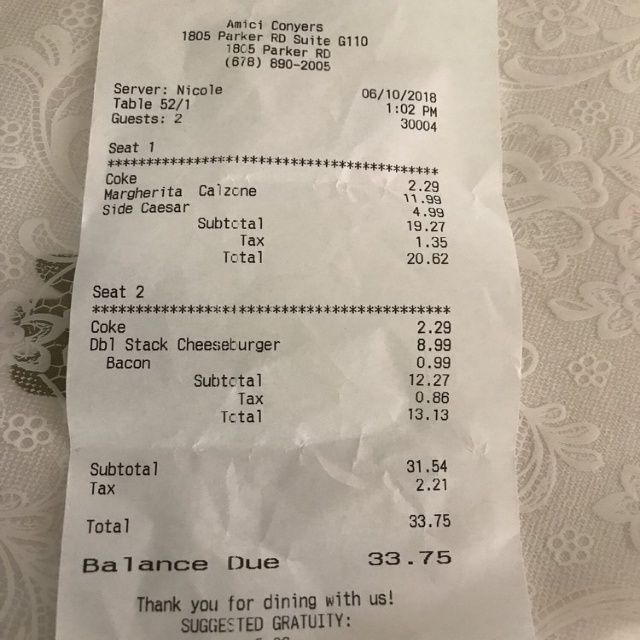invoice_table: (90, 142, 451, 425)
invoice_title: (182, 19, 370, 71)
invoice_total: (82, 549, 453, 573)
